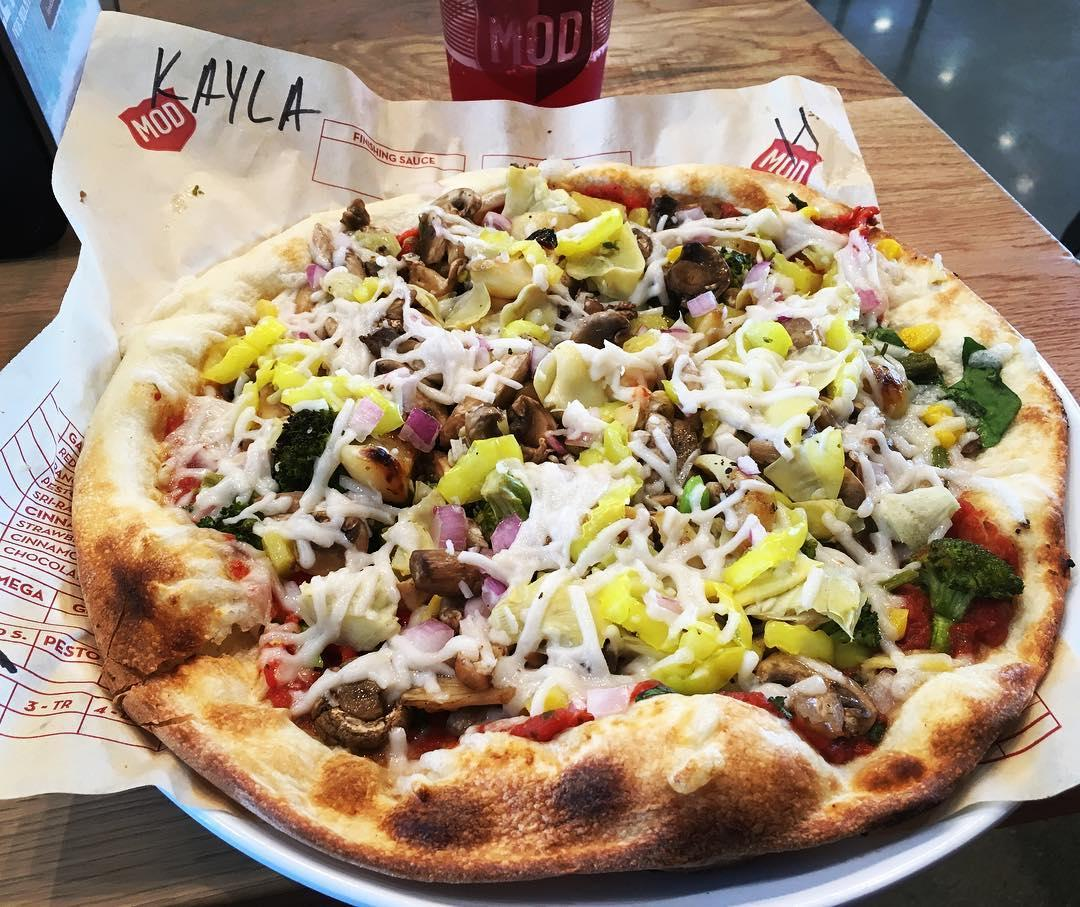Basil: (944, 336, 1020, 453)
Broccoli: (906, 532, 1025, 665), (264, 402, 342, 493)
Corn: (920, 394, 967, 451), (252, 524, 295, 579), (896, 317, 950, 356), (540, 677, 575, 721), (870, 234, 906, 269), (661, 242, 690, 267), (791, 200, 819, 222)
Mushroom: (744, 646, 878, 749), (440, 344, 559, 452), (398, 643, 513, 714), (307, 678, 407, 750), (334, 426, 420, 505), (403, 214, 471, 296), (658, 239, 737, 309), (635, 395, 714, 464), (407, 540, 497, 596), (563, 293, 642, 351), (638, 189, 682, 233), (339, 195, 376, 237)
Onion: (577, 681, 648, 725), (333, 395, 393, 445), (398, 610, 460, 654), (394, 403, 448, 453), (427, 502, 477, 555), (556, 397, 606, 448), (478, 572, 523, 620), (641, 587, 690, 630), (487, 508, 526, 554), (681, 286, 722, 322), (299, 259, 336, 295), (849, 285, 887, 320), (739, 262, 775, 298), (479, 206, 514, 232)
Pizza: (69, 146, 1076, 890)
